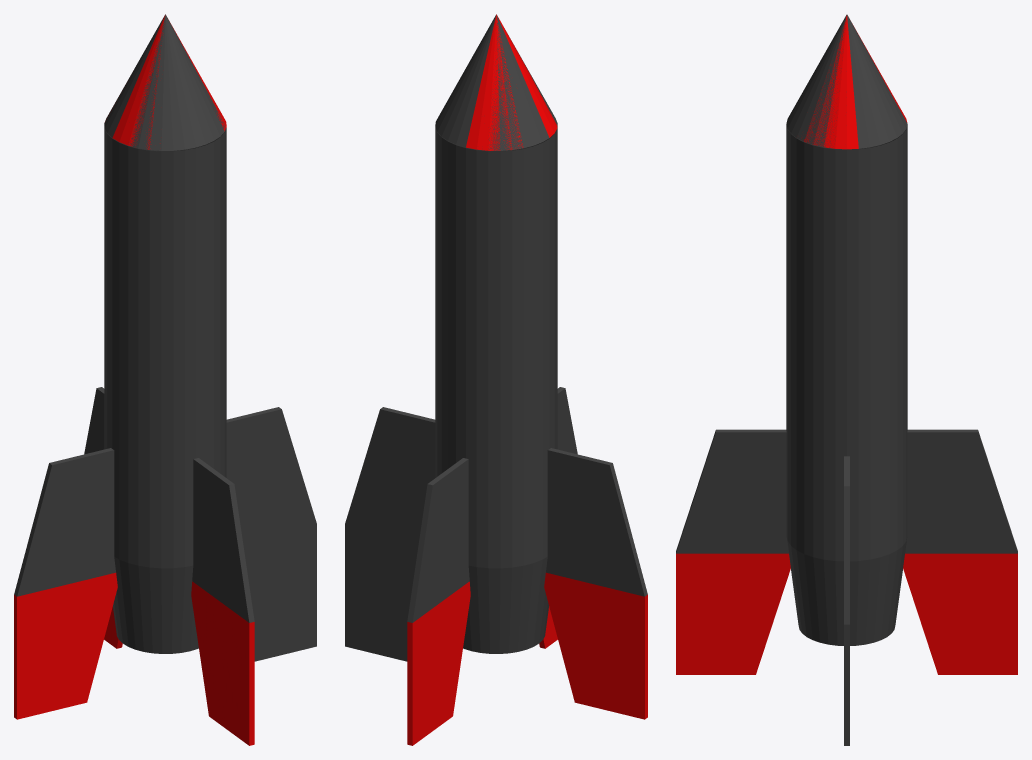
The model's file is RaketaProvizorni.glb.
The picture shows the model from 3 angles, left to right: view 1: azimuth 30°, elevation 25°; view 2: azimuth 150°, elevation 25°; view 3: azimuth 270°, elevation 25°; orthographic projection.
Visible parts, largest first — view 1: Krychle.004; view 2: Krychle.004; view 3: Krychle.004.
Part boxes in pixels (<box>): Krychle.004: <box>14,14,316,745</box>; Krychle.004: <box>345,14,647,745</box>; Krychle.004: <box>676,14,1017,745</box>.
Size of the model in its own units: 5.64 by 12.02 by 5.64.
